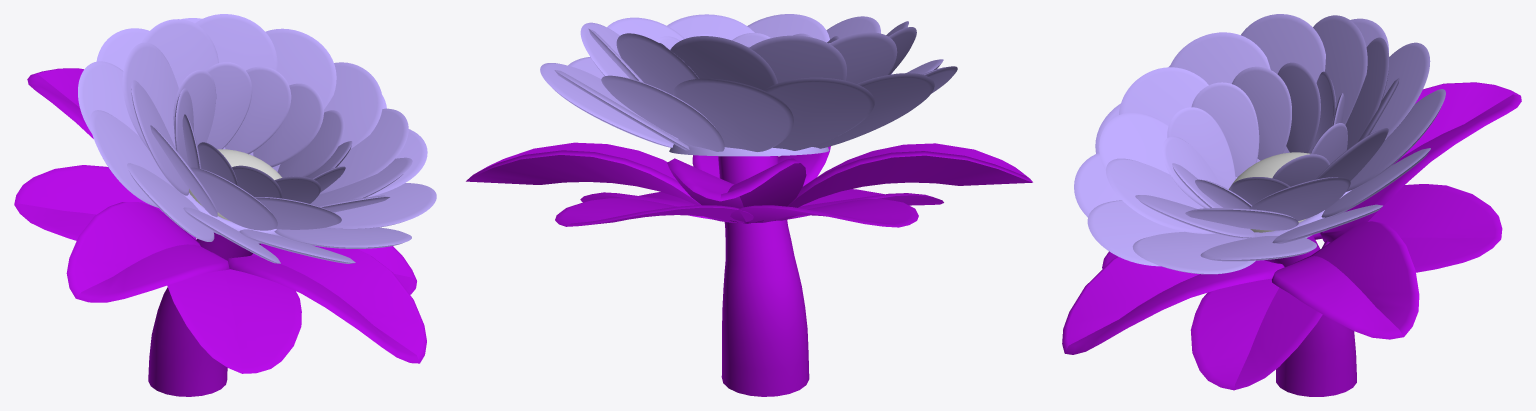
File: Flower1.fbx
The picture shows the model from 3 angles, left to right: view 1: azimuth 30°, elevation 25°; view 2: azimuth 150°, elevation 25°; view 3: azimuth 270°, elevation 25°; orthographic projection. The views are drawn at different scales.
Visible parts, largest first — view 1: pedals1, leaves, stem1, center; view 2: pedals1, leaves, stem1; view 3: pedals1, leaves, stem1, center.
Part boxes in pixels (x1=…): pedals1: x1=78, y1=14, x2=436, y2=263; leaves: x1=14, y1=68, x2=426, y2=373; stem1: x1=148, y1=232, x2=260, y2=396; center: x1=189, y1=149, x2=282, y2=221; pedals1: x1=540, y1=14, x2=957, y2=151; leaves: x1=466, y1=139, x2=1032, y2=227; stem1: x1=718, y1=156, x2=809, y2=396; pedals1: x1=1074, y1=14, x2=1445, y2=274; leaves: x1=1062, y1=82, x2=1521, y2=390; stem1: x1=1264, y1=235, x2=1356, y2=396; center: x1=1229, y1=152, x2=1310, y2=232.
Size of the model in its own units: 0.9952 by 0.772 by 0.94.
